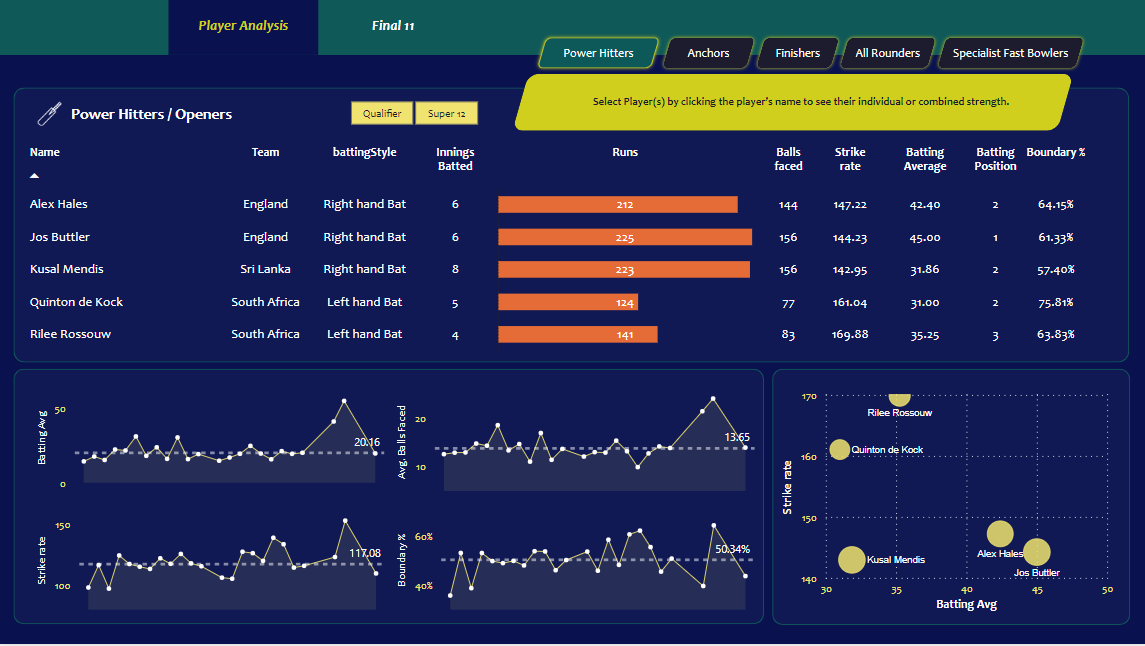

The page's visual inventory and layout, read from the dashboard file:
{"tool":"powerbi","page":{"name":"Project - Sportan","canvas":[1280,720],"ordinal":0},"visuals":[{"type":"shape","box":[0,66,1280,654],"z":0},{"type":"card","fields":{"Values":["Key_Measures.Strike rate"]},"box":[867,89,93,60],"z":0,"group":"g2"},{"type":"group","id":"g1","title":"Group 2","box":[83.8,116.2,260,31.2],"z":0,"group":"g3"},{"type":"shape","box":[83.8,116.2,260,31.2],"z":0,"group":"g1"},{"type":"card","fields":{"Values":["Key_Measures.Bat Avg"]},"box":[768,89,92,60],"z":1000,"group":"g2"},{"type":"image","box":[38,114,44,36],"z":1000,"group":"g3"},{"type":"shape","box":[20,414.4,832.2,283.3],"z":1000},{"type":"actionButton","box":[734,42.6,111,42],"z":2000},{"type":"card","fields":{"Values":["Key_Measures.Boundary %"]},"box":[1063.6,92.3,110,56.7],"z":2000,"group":"g2"},{"type":"actionButton","box":[596,42.6,144,42],"z":3000},{"type":"card","fields":{"Values":["Key_Measures.Avergate Balls Faced"]},"box":[966,89,101,60],"z":3000,"group":"g2"},{"type":"actionButton","box":[838,42.6,101,42],"z":4000},{"type":"actionButton","box":[932,42.6,115,42],"z":5000},{"type":"actionButton","box":[1039,42.6,171,42],"z":6000},{"type":"areaChart","fields":{"Category":["dim_match_summary.Match_Date.Variation.Date Hierarchy.Day"],"Y":["Key_Measures.Boundary %"]},"box":[438.8,560,406.2,126.2],"z":9000},{"type":"shape","box":[860,414,397,284],"z":10000},{"type":"areaChart","fields":{"Category":["dim_match_summary.Match_Date.Variation.Date Hierarchy.Day"],"Y":["Key_Measures.Avergate Balls Faced"]},"box":[438.8,428.8,406.2,126.2],"z":11000},{"type":"areaChart","fields":{"Category":["dim_match_summary.Match_Date.Variation.Date Hierarchy.Day"],"Y":["Key_Measures.Bat Avg"]},"box":[40,428.9,395.6,126.7],"z":12000},{"type":"areaChart","fields":{"Category":["dim_match_summary.Match_Date.Variation.Date Hierarchy.Day"],"Y":["Key_Measures.Strike rate"]},"box":[40,560,396.2,126.2],"z":13000},{"type":"shape","box":[20,102.2,1236.7,304.4],"z":14000},{"type":"slicer","fields":{"Values":["dim_match_summary.stage"]},"box":[366.7,111.1,191.1,38.9],"z":15000},{"type":"shape","box":[572,88,622,63],"z":16000},{"type":"shape","box":[591,103,173,34],"z":17000},{"type":"group","id":"g2","title":"Combined Perfoamce Metrices","box":[768,89,405.6,60],"z":18000},{"type":"group","id":"g3","title":"Group 1","box":[38,114,305.8,36],"z":19000},{"type":"tableEx","fields":{"Values":["dim_player.name","dim_player.team","dim_player.Batting Style","Key_Measures.Total Matches","Key_Measures.Total Runs","Key_Measures.total balls faced","Key_Measures.Strike rate","Key_Measures.Bat Avg","Key_Measures.Batting Position","Key_Measures.Boundary %"]},"box":[26,151,1231,255],"z":20000},{"type":"scatterChart","fields":{"Y":["Key_Measures.Strike rate"],"Category":["dim_player.name"],"X":["Key_Measures.Bat Avg"],"Size":["Key_Measures.Total Runs"]},"box":[866.7,430,377.8,258.9],"z":21000},{"type":"actionButton","title":"Button Player Ana selected","box":[191,0,166,66],"z":22000},{"type":"actionButton","title":"Button Player Ana selected","box":[357,0,166,66],"z":23000},{"type":"shape","box":[612,100,560,36],"z":24000}]}

Visuals, with their boxes in screenshot pixels (x1, y1, x2, y2), scaled from the page's 1280x720 canvas onto the 1145x646 screenshot:
shape: bbox=[0, 59, 1144, 645]
card - Key_Measures.Strike rate: bbox=[776, 80, 859, 134]
"Group 2" group: bbox=[75, 104, 308, 132]
shape: bbox=[75, 104, 308, 132]
card - Key_Measures.Bat Avg: bbox=[687, 80, 769, 134]
image: bbox=[34, 102, 73, 135]
shape: bbox=[18, 372, 762, 626]
actionButton: bbox=[657, 38, 756, 76]
card - Key_Measures.Boundary %: bbox=[951, 83, 1050, 134]
actionButton: bbox=[533, 38, 662, 76]
card - Key_Measures.Avergate Balls Faced: bbox=[864, 80, 954, 134]
actionButton: bbox=[750, 38, 840, 76]
actionButton: bbox=[834, 38, 937, 76]
actionButton: bbox=[929, 38, 1082, 76]
areaChart - dim_match_summary.Match_Date.Variation.Date Hierarchy.Day x Key_Measures.Boundary %: bbox=[393, 502, 756, 616]
shape: bbox=[769, 371, 1124, 626]
areaChart - dim_match_summary.Match_Date.Variation.Date Hierarchy.Day x Key_Measures.Avergate Balls Faced: bbox=[393, 385, 756, 498]
areaChart - dim_match_summary.Match_Date.Variation.Date Hierarchy.Day x Key_Measures.Bat Avg: bbox=[36, 385, 390, 498]
areaChart - dim_match_summary.Match_Date.Variation.Date Hierarchy.Day x Key_Measures.Strike rate: bbox=[36, 502, 390, 616]
shape: bbox=[18, 92, 1124, 365]
slicer - dim_match_summary.stage: bbox=[328, 100, 499, 135]
shape: bbox=[512, 79, 1068, 135]
shape: bbox=[529, 92, 683, 123]
"Combined Perfoamce Metrices" group: bbox=[687, 80, 1050, 134]
"Group 1" group: bbox=[34, 102, 308, 135]
tableEx - dim_player.name x dim_player.team: bbox=[23, 135, 1124, 364]
scatterChart - Key_Measures.Strike rate x dim_player.name: bbox=[775, 386, 1113, 618]
"Button Player Ana selected" actionButton: bbox=[171, 0, 319, 59]
"Button Player Ana selected" actionButton: bbox=[319, 0, 468, 59]
shape: bbox=[547, 90, 1048, 122]
